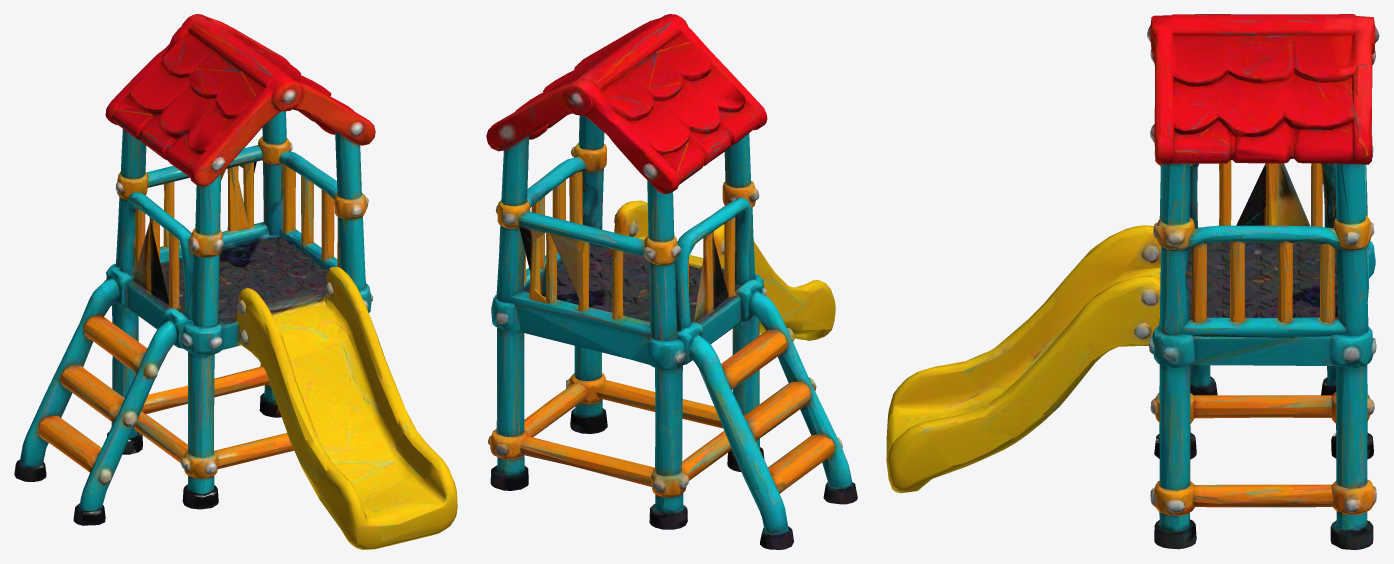
Rendered from prop-climb.glb.
3 renders of one model, left to right at view 1: azimuth 30°, elevation 25°; view 2: azimuth 150°, elevation 25°; view 3: azimuth 270°, elevation 25°, orthographic. The views are drawn at different scales.
Bounding box in the file's own units: 1.4 × 1.9 × 1.76.
Materials: 1 (1 with a texture image).
